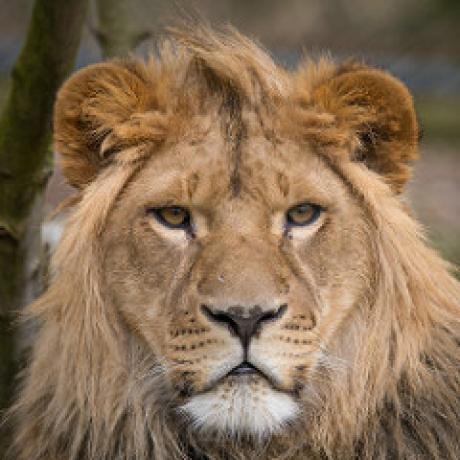Lion: (15, 30, 459, 460)
